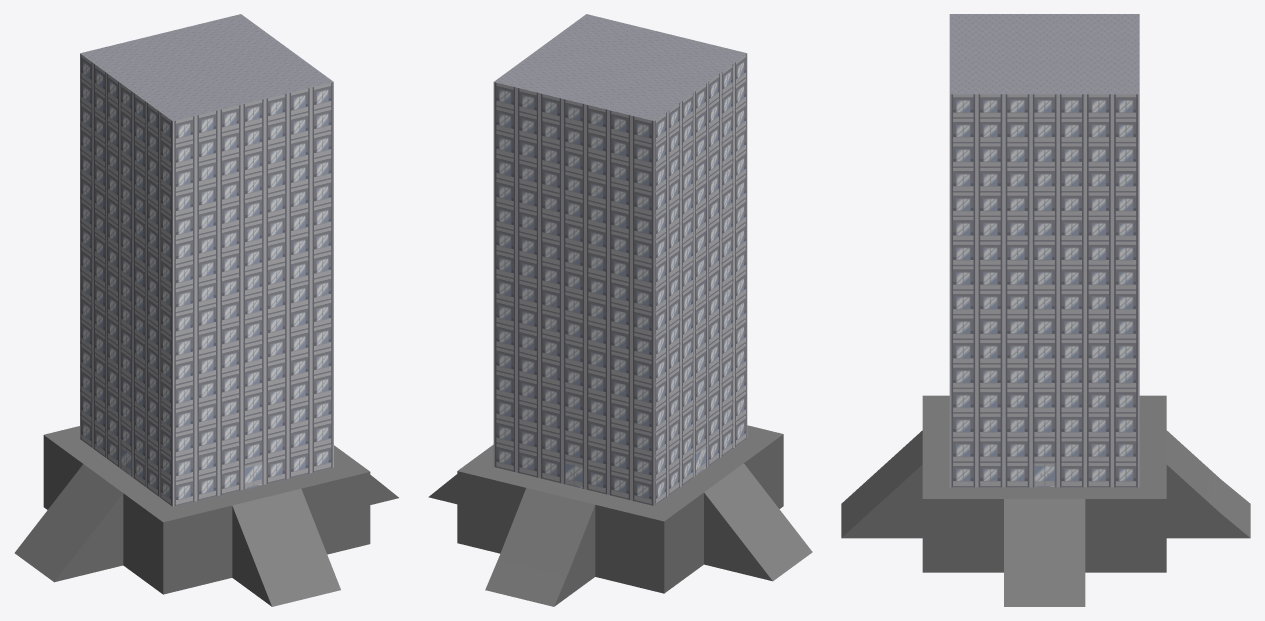
Rendered from Apartment.fbx.
The picture shows the model from 3 angles, left to right: view 1: azimuth 30°, elevation 25°; view 2: azimuth 150°, elevation 25°; view 3: azimuth 270°, elevation 25°; orthographic projection. The views are drawn at different scales.
Parts seen in each view (by area): view 1: Apartment001, Building_Slops001; view 2: Apartment001, Building_Slops001; view 3: Apartment001, Building_Slops001.
Boxes of the visible parts, x1,y1,x2,y2 form: Apartment001: (80,14,333,506); Building_Slops001: (14,426,398,606); Apartment001: (493,14,747,505); Building_Slops001: (428,425,812,606); Apartment001: (949,14,1139,487); Building_Slops001: (841,395,1250,606).
Size of the model in its own units: 3000 by 3800 by 3020.
